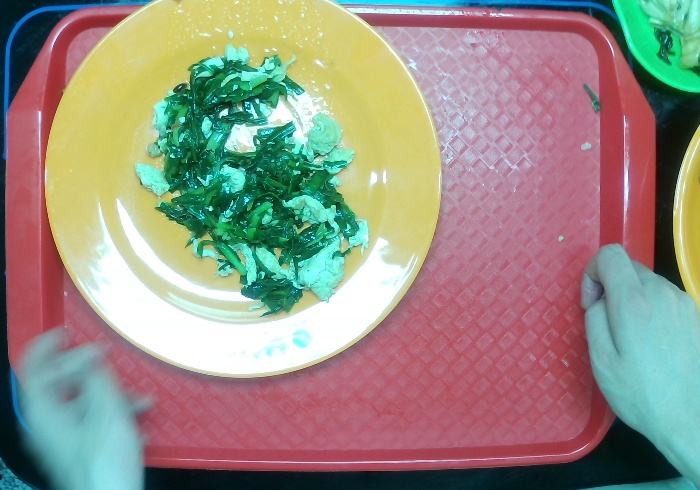YKMZ-Ju_Se_Mian_Pan: (40, 1, 447, 381)
